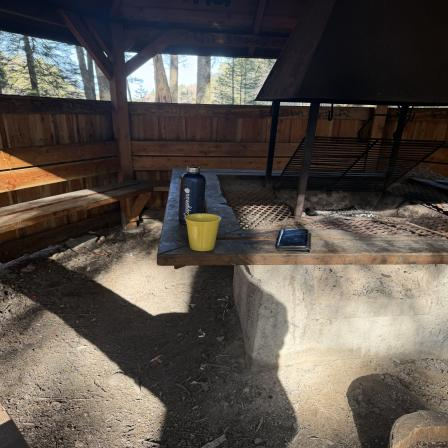blue_bottle: (179, 165, 209, 212)
phone: (281, 227, 310, 252)
yellow_cup: (185, 214, 220, 252)
